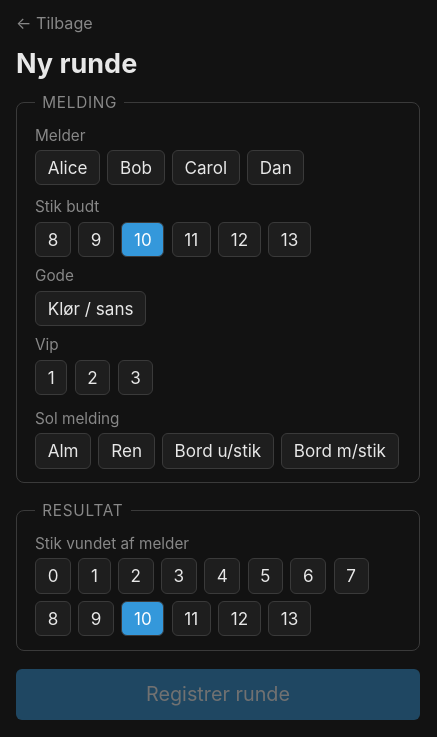
Test: Round screen - Frants › Gode disables Vip > 0 in Frants
The width and height of the screenshot is (437, 737).
Click the button "Klør / sans". click: (91, 308)
box: [35,290,146,326]
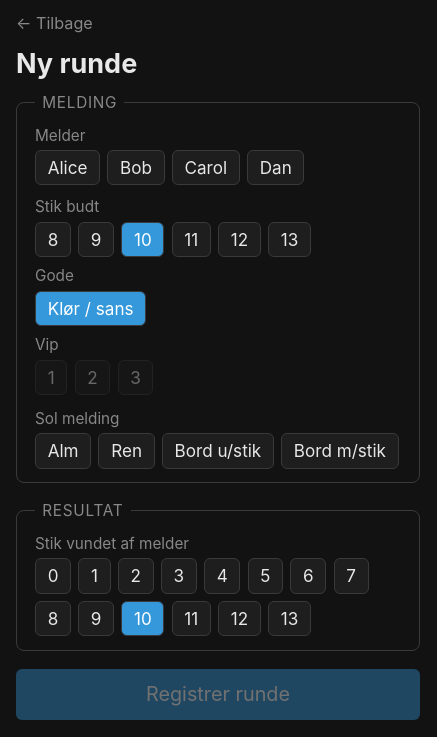
Expected: the button "1" below "Vip" is disabled, [35,360,67,395]
